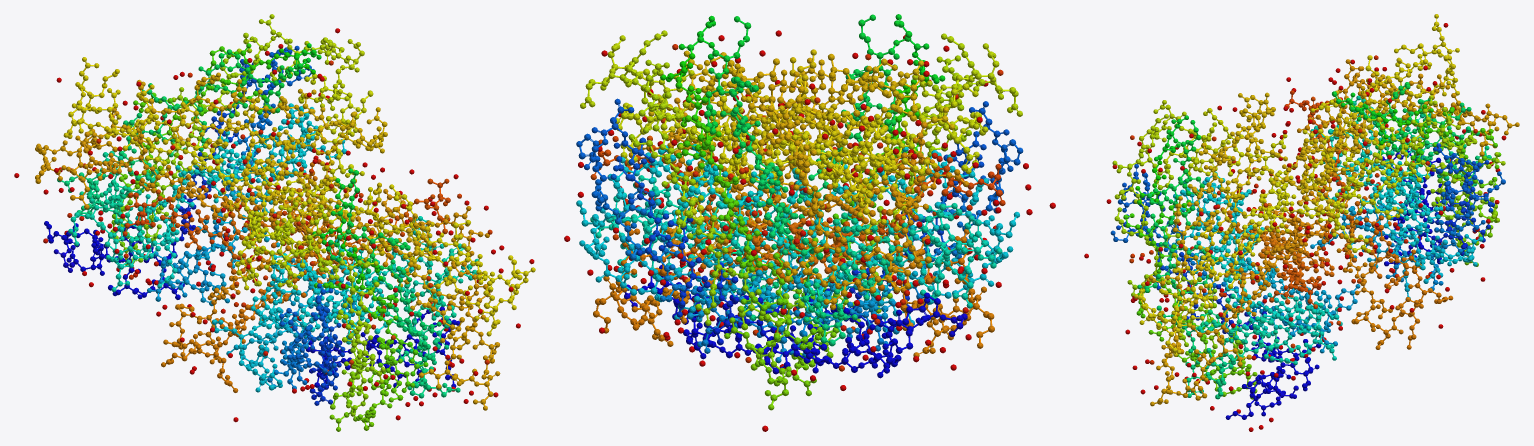
Rendered from 1gfl__ball_and_stick__rainbow.glb.
The picture shows the model from 3 angles, left to right: view 1: azimuth 30°, elevation 25°; view 2: azimuth 150°, elevation 25°; view 3: azimuth 270°, elevation 25°; orthographic projection. The views are drawn at different scales.
Visible parts, largest first — view 1: Renderer Node; view 2: Renderer Node; view 3: Renderer Node.
Boxes of the visible parts, left/top/right/bottom form: Renderer Node: left=14, top=14, right=535, bottom=431; Renderer Node: left=564, top=14, right=1055, bottom=431; Renderer Node: left=1084, top=14, right=1519, bottom=431.
Bounding box in the file's own units: 61.93 × 54.35 × 67.59.
